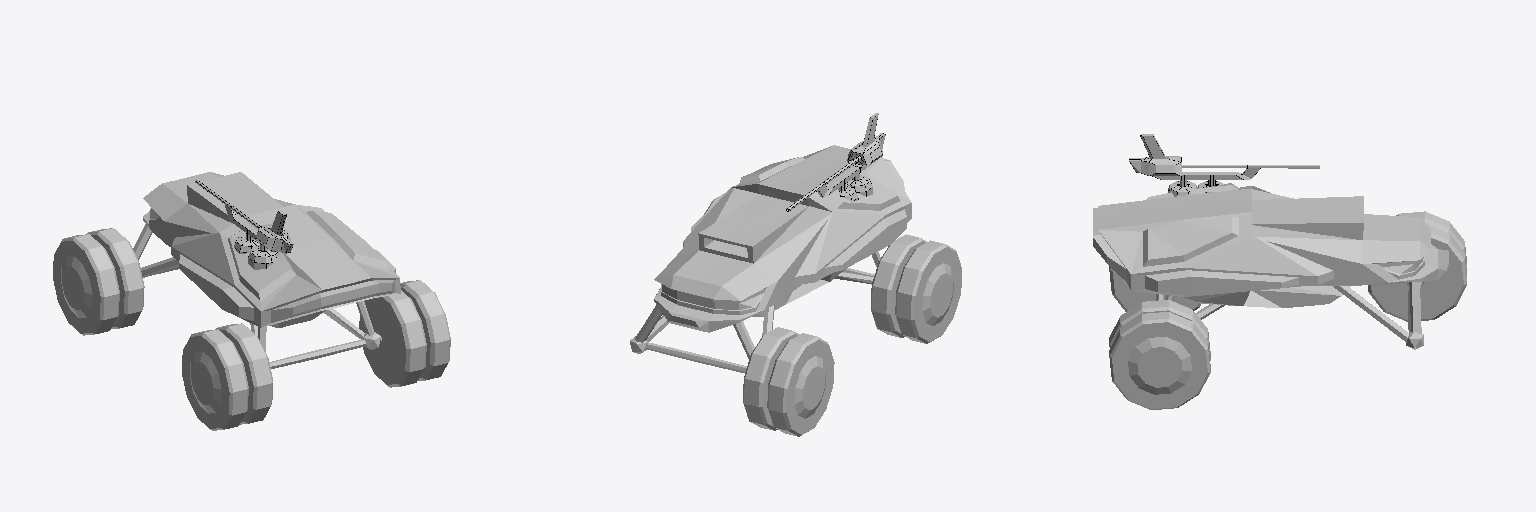
Rendered from big_foot_0_1_sniper_rifles.obj.
The picture shows the model from 3 angles: view 1: azimuth 30°, elevation 25°; view 2: azimuth 150°, elevation 25°; view 3: azimuth 270°, elevation 25°; orthographic projection.
Visible parts, largest first — view 1: Cube, Cube.001, Cube.002, Cube.003; view 2: Cube, Cube.001, Cube.002, Cube.003; view 3: Cube, Cube.001, Cube.002, Cube.003.
Part boxes in pixels (bbox=[...]): Cube: bbox=[133, 172, 400, 368]; Cube.001: bbox=[182, 280, 450, 430]; Cube.002: bbox=[53, 228, 144, 335]; Cube.003: bbox=[195, 179, 293, 269]; Cube: bbox=[630, 145, 911, 372]; Cube.001: bbox=[704, 192, 961, 343]; Cube.002: bbox=[743, 327, 834, 436]; Cube.003: bbox=[786, 113, 885, 211]; Cube: bbox=[1093, 183, 1448, 349]; Cube.001: bbox=[1109, 266, 1210, 409]; Cube.002: bbox=[1368, 211, 1466, 321]; Cube.003: bbox=[1129, 134, 1319, 196].
Size of the model in its own units: 5.41 by 4.59 by 7.68.